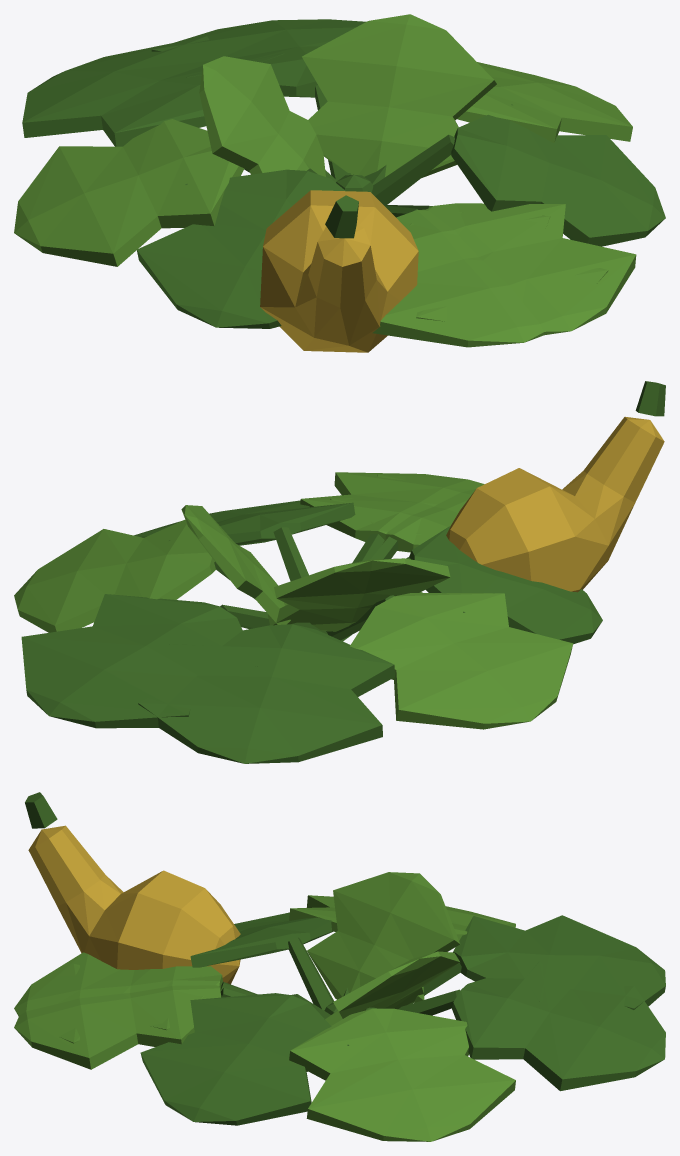
The model's file is squash_3.gltf.
The picture shows the model from 3 angles, top to bottom: view 1: azimuth 30°, elevation 25°; view 2: azimuth 150°, elevation 25°; view 3: azimuth 270°, elevation 25°; orthographic projection. The views are drawn at different scales.
Parts seen in each view (by area): view 1: squash_3; view 2: squash_3; view 3: squash_3.
Part boxes in pixels (x1,y1,x2,y2): squash_3: (14, 14, 665, 352); squash_3: (14, 381, 665, 763); squash_3: (14, 792, 665, 1141).
Size of the model in its own units: 0.6901 by 0.2463 by 0.8047.
